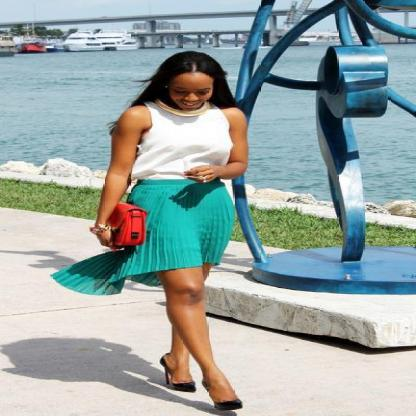bag: (93, 203, 146, 251)
shirt: (127, 100, 232, 191)
shoe: (160, 356, 241, 416)
skirt: (50, 178, 233, 294)
